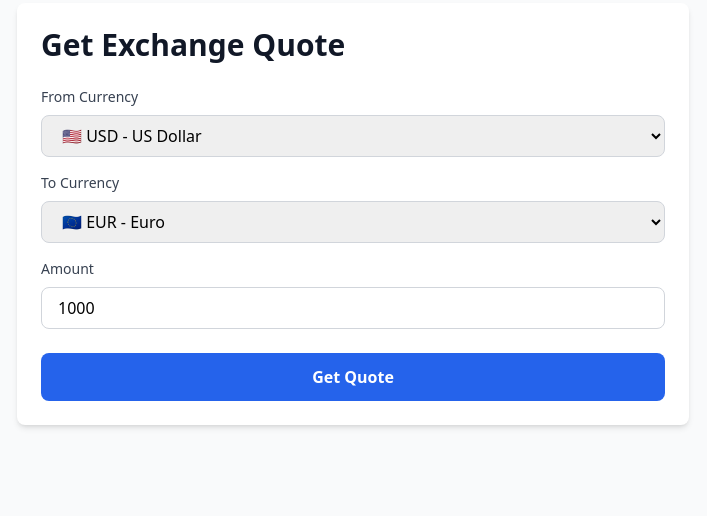
Test: QuoteScreen › should show error message on API failure
The width and height of the screenshot is (707, 516).
What coordinates should you click on to do the following:
click the button "Get Quote"
I would click on:
 (353, 377)
Its box is [41,353,665,401].
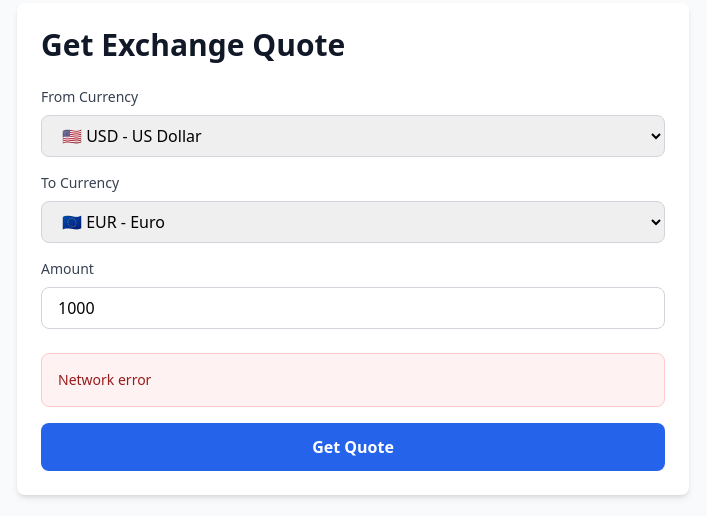
Result: the text "Network error" is shown at [58,370,151,389]
